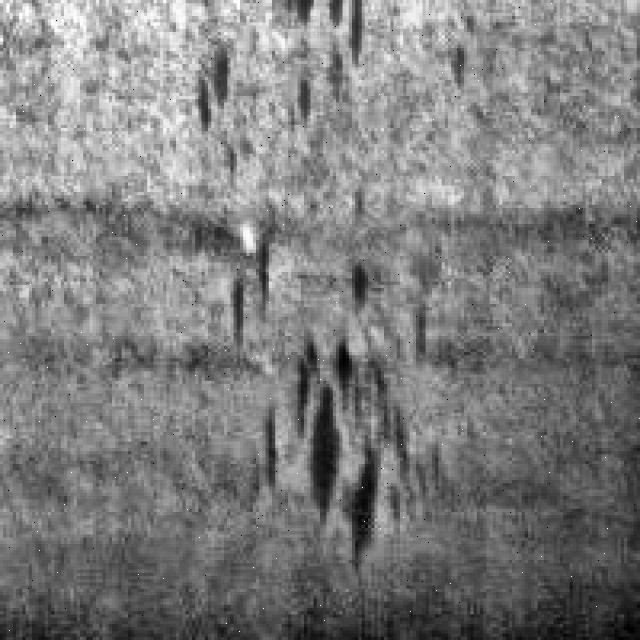Patches: (268, 256, 436, 573)
